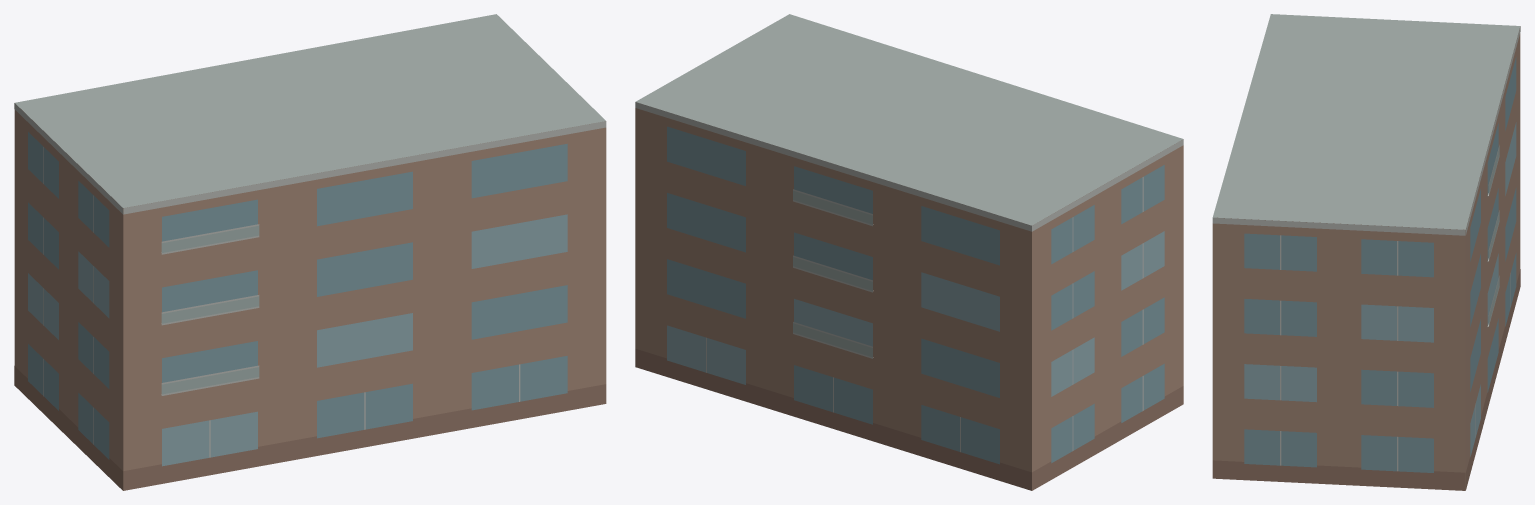
The model's file is survey-upis-32871247.glb.
3 views of the same model, side by side, from view 1: azimuth 30°, elevation 25°; view 2: azimuth 150°, elevation 25°; view 3: azimuth 270°, elevation 25° (orthographic). The views are drawn at different scales.
Parts seen in each view (by area): view 1: survey-upis-32871247.tmp; view 2: survey-upis-32871247.tmp; view 3: survey-upis-32871247.tmp.
Part boxes in pixels (x1,y1,x2,y2): survey-upis-32871247.tmp: [14, 14, 606, 490]; survey-upis-32871247.tmp: [635, 14, 1183, 490]; survey-upis-32871247.tmp: [1212, 14, 1520, 490].
Bounding box in the file's own units: 18.98 × 10.7 × 11.44.
